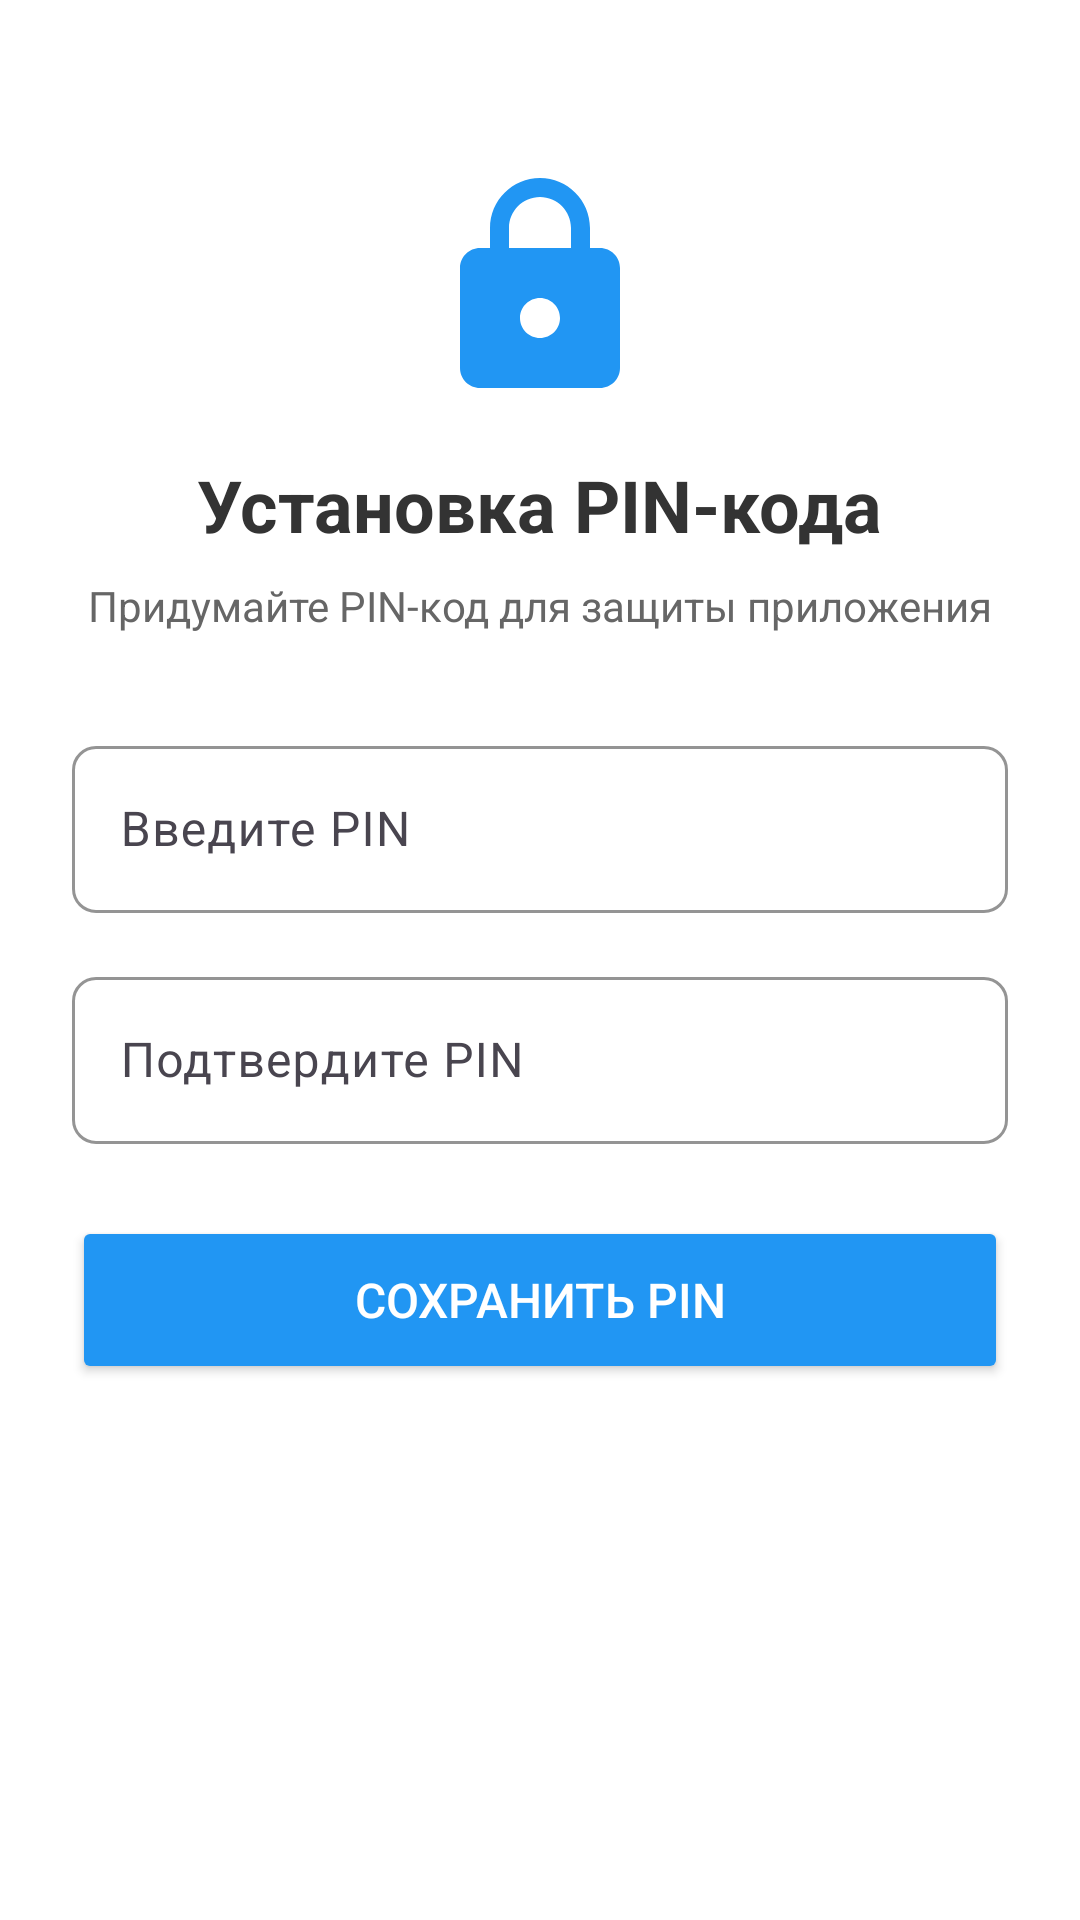

Icon bounding boxes for this 1080*1920 phone screenshot, format (x1, y1, x2, y2):
Lock Icon: (460, 178, 620, 388)
